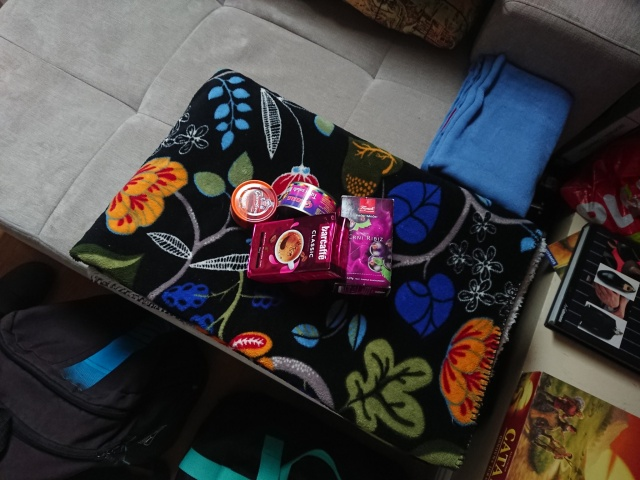Barcaffe Classic Original 225g: (242, 210, 353, 287)
Franck Black Currant Tea 60g: (328, 192, 395, 299)
Gavrilovic Pork Liver Pate 100g: (228, 178, 279, 231)
Giana Tuna Salad Mexico 185g: (274, 179, 340, 233)
